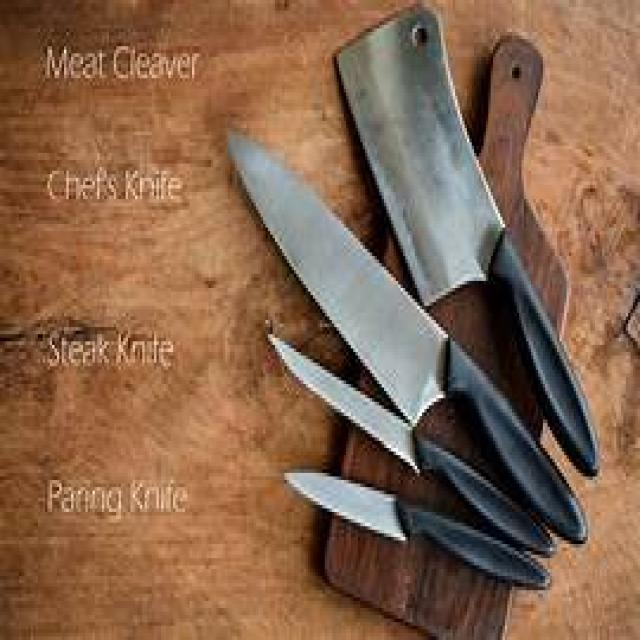Knife: (230, 132, 581, 537), (344, 7, 595, 469), (270, 334, 550, 548), (284, 473, 548, 583)
